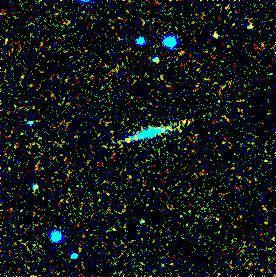star: (116, 126, 146, 156)
